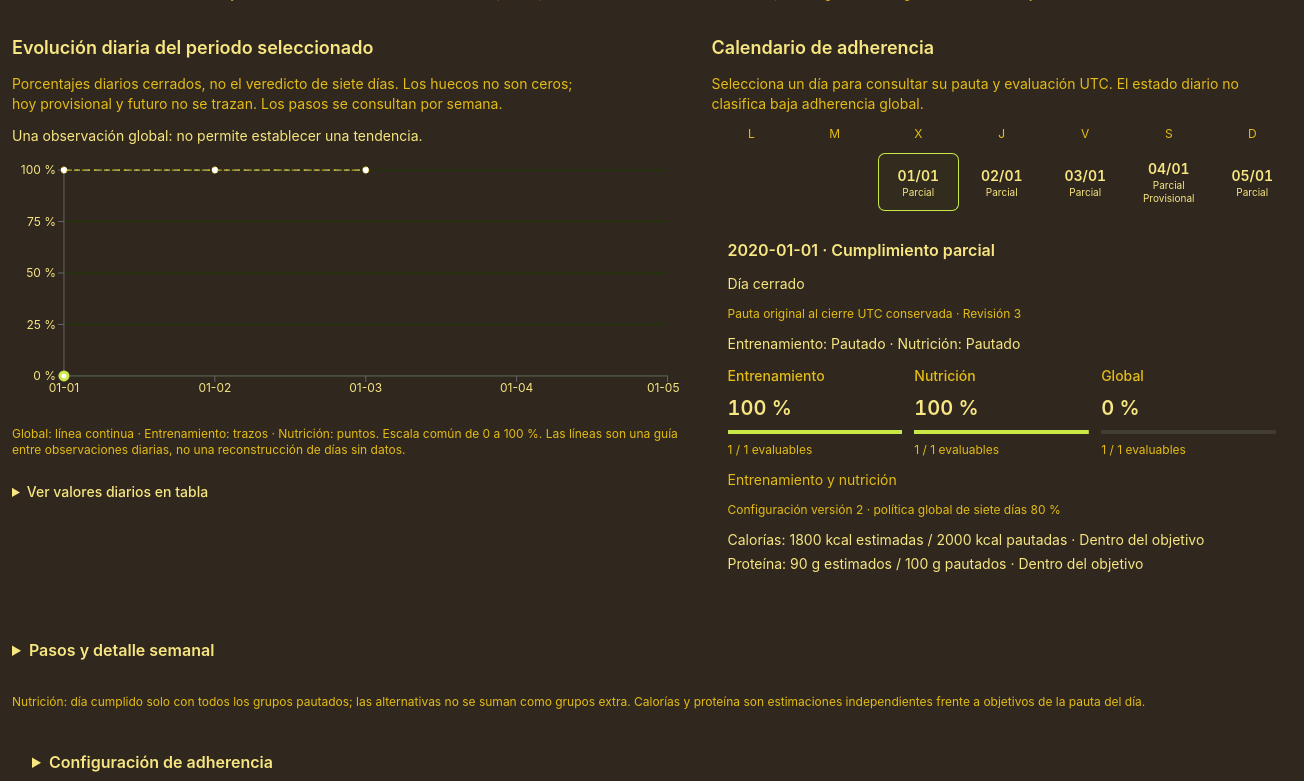
Adherencia visual › la tabla conserva cero medido y huecos para datos insuficientes, neutrales y no cerrados
(page scrolled)
Click the heading "Ver valores diarios en tabla" at point(117, 492), box x1=27 y1=483 x2=208 y2=500
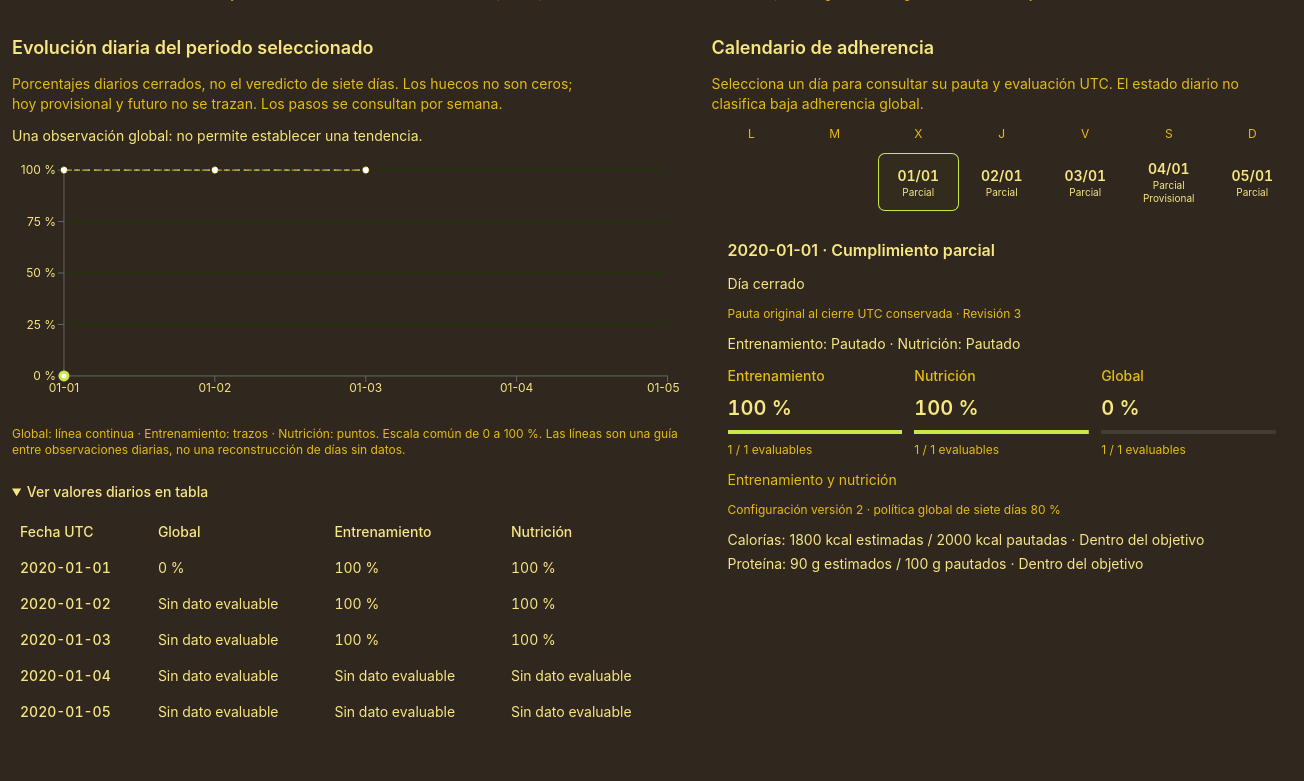
Now the cell "0 %" is shown, box x1=150 y1=550 x2=326 y2=586
Now the cell "Sin dato evaluable" next to "2020-01-02" is shown, box x1=158 y1=595 x2=278 y2=612
Now the cell "Sin dato evaluable" next to "2020-01-03" is shown, box x1=158 y1=631 x2=278 y2=648
